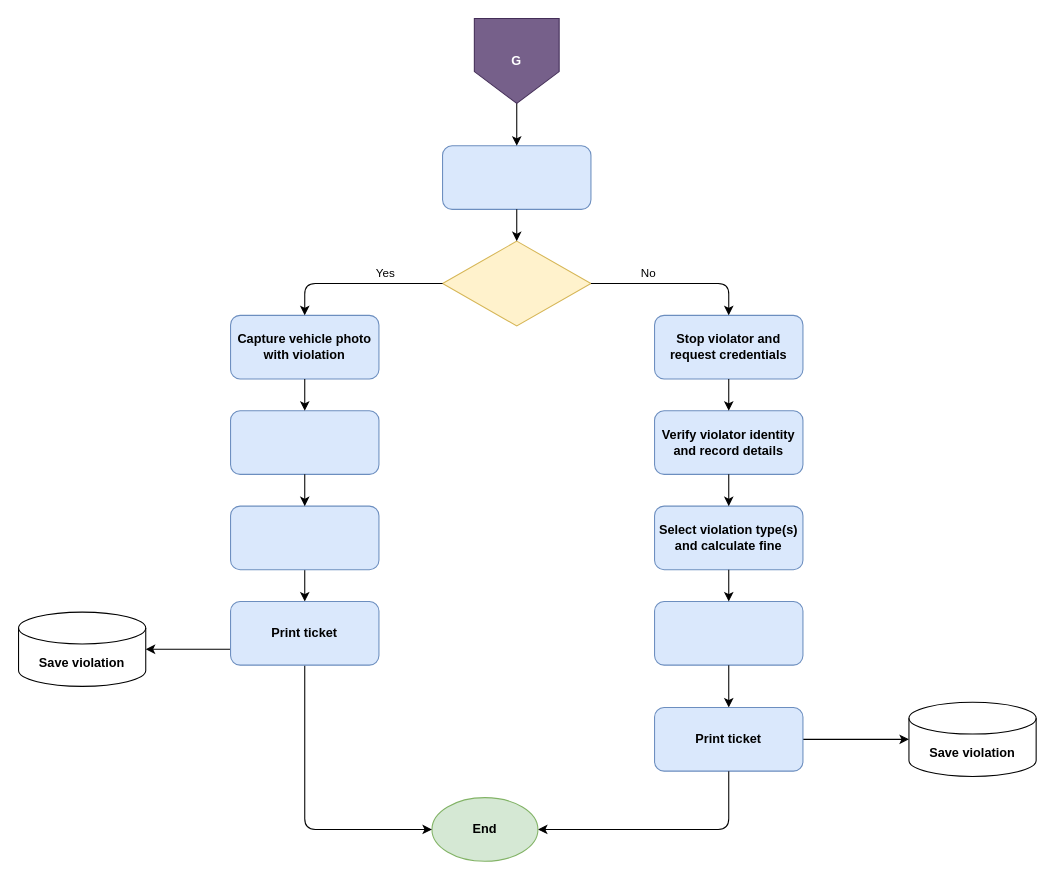
This 1055x880 diagram has some shape labels left out. Here are the shapes that lost their labels. From the top down, the centre of each, then its label:
point 516,177: Traffic Enforcer detects violation
point 516,283: Is this an NCAP violation?
point 304,442: Record vehicle details (plate number, location, etc.)
point 304,537: Upload to system
point 728,632: Issue citation and get signatures
